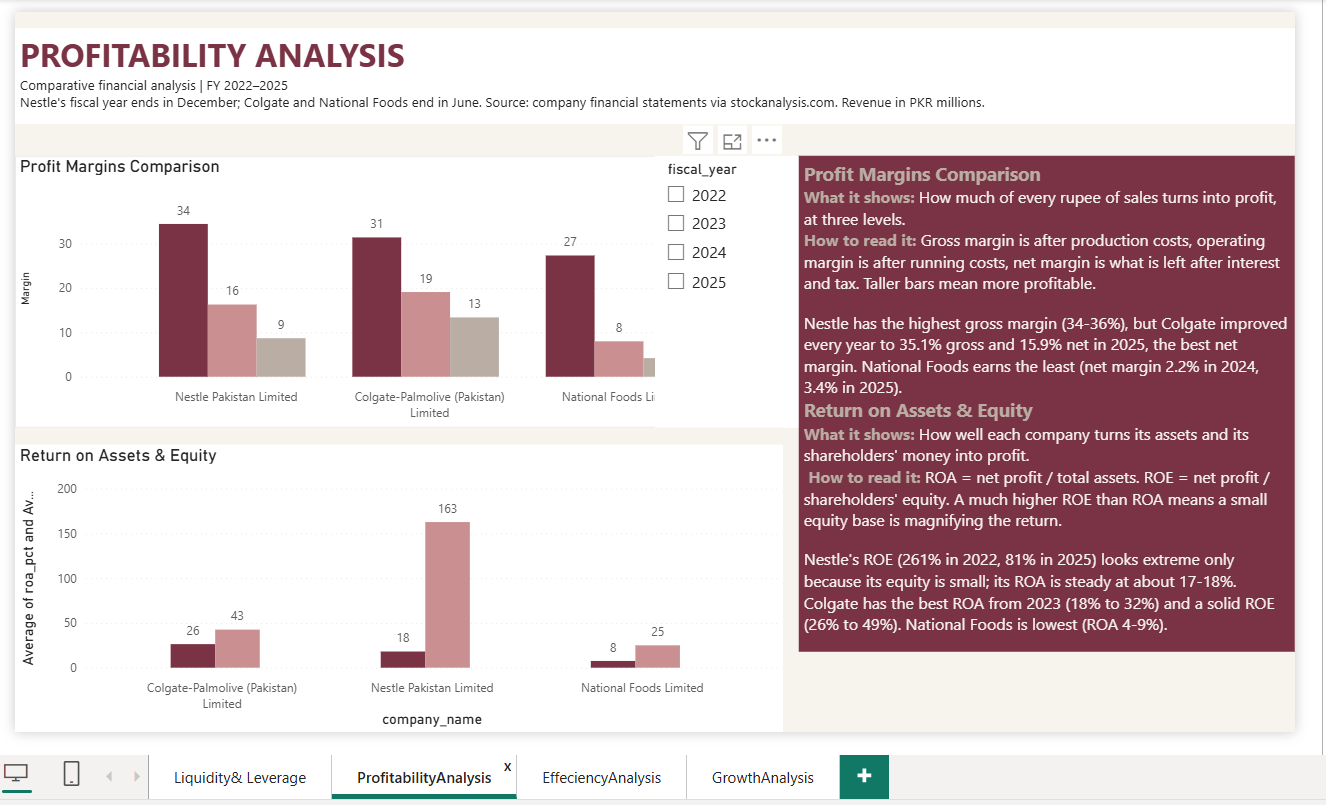

The page's visual inventory and layout, read from the dashboard file:
{"tool":"powerbi","page":{"name":"ProfitabilityAnalysis","canvas":[1280,720],"ordinal":1},"visuals":[{"type":"clusteredColumnChart","title":"Return on Assets & Equity","fields":{"Category":["public profitability_ratio.company_name"],"Y":["Avg(public profitability_ratio.roa_pct)","Avg(public profitability_ratio.roe_pct)"]},"box":[0,432,768,288],"z":0},{"type":"clusteredColumnChart","title":"Profit Margins Comparison","fields":{"Category":["public profitability_ratio.company_name"],"Y":["Avg(public profitability_ratio.gross_margin_pct)","Avg(public profitability_ratio.operating_margin_pct)","Avg(public profitability_ratio.net_margin_pct)"]},"box":[0,144,768,272],"z":1000},{"type":"textbox","box":[0,16,1280,96],"z":2000},{"type":"slicer","fields":{"Values":["Table.fiscal_year"]},"box":[640,144,144,272],"z":3000},{"type":"textbox","box":[784,144,496,496],"z":3001}]}

Visuals, with their boxes on the page's 1280x720 design canvas (x1, y1, x2, y2). These are canvas units, not pixel positions in the 1326x805 screenshot, which may show the page scaled, cropped or inside an application window:
"Return on Assets & Equity" clusteredColumnChart: locate(0, 432, 768, 720)
"Profit Margins Comparison" clusteredColumnChart: locate(0, 144, 768, 416)
textbox: locate(0, 16, 1280, 112)
slicer - Table.fiscal_year: locate(640, 144, 784, 416)
textbox: locate(784, 144, 1280, 640)
